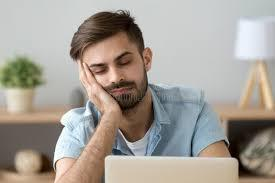Drowsy: (64, 16, 166, 125)
